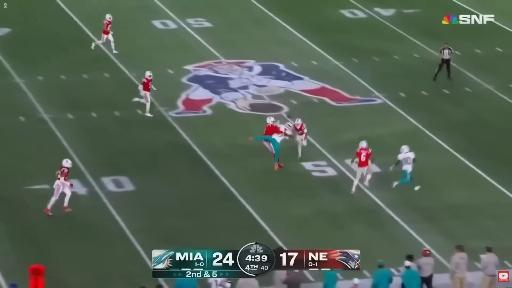Helmet: (62, 159, 72, 167), (266, 116, 275, 124), (145, 71, 153, 79), (400, 146, 409, 153), (105, 14, 113, 21), (359, 141, 367, 148), (285, 122, 292, 129), (295, 119, 302, 125)
Jersey: (398, 151, 415, 171), (356, 148, 371, 167), (272, 128, 292, 142), (56, 167, 69, 182), (264, 124, 280, 135), (141, 77, 152, 93), (294, 123, 307, 135), (103, 20, 111, 35)
Player: (250, 124, 292, 170), (45, 159, 73, 215), (390, 146, 420, 190), (133, 71, 157, 116), (351, 141, 371, 193), (92, 14, 118, 53), (294, 119, 307, 158), (264, 117, 280, 136)
